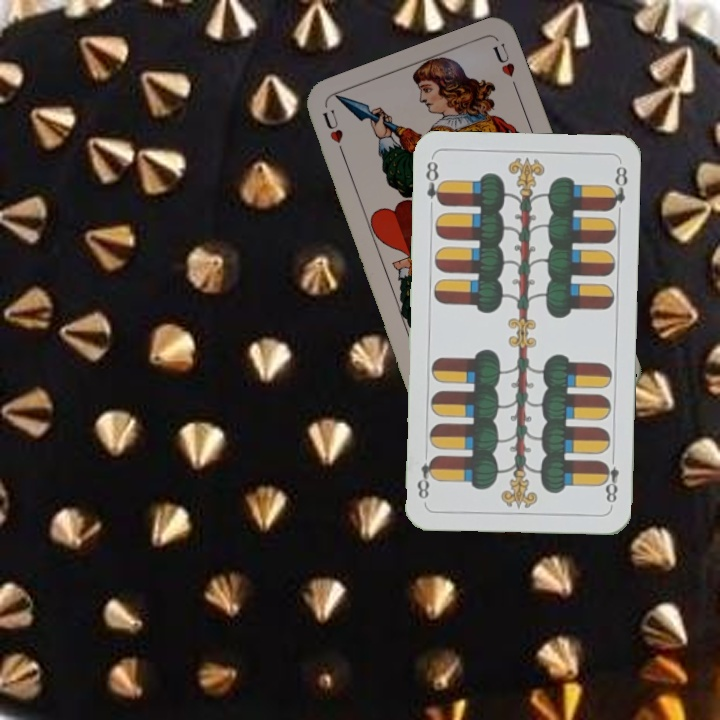E8: (421, 157, 446, 209), (598, 450, 621, 506)
HU: (318, 106, 349, 161)
